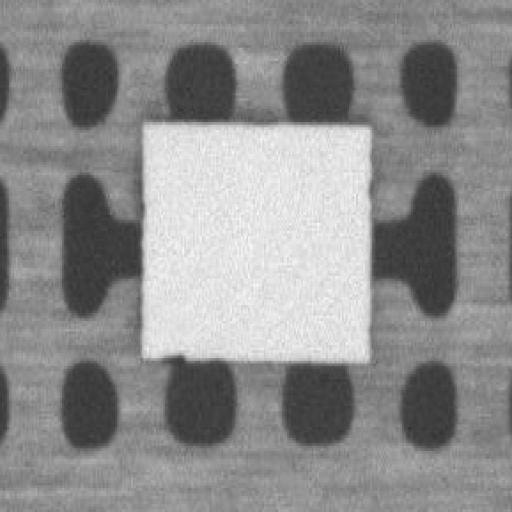DIE_BROKEN: (156, 348, 189, 364)
